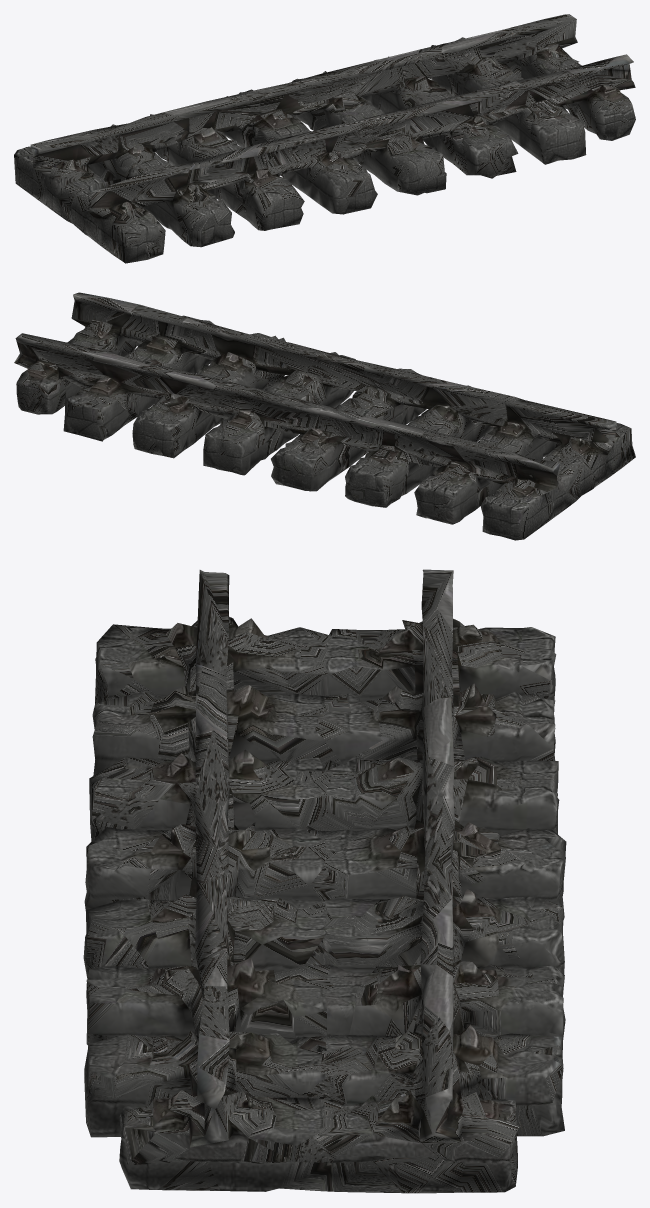
File: railroad_track_04.glb
3 renders of one model, top to bottom at view 1: azimuth 30°, elevation 25°; view 2: azimuth 150°, elevation 25°; view 3: azimuth 270°, elevation 25°, orthographic. The views are drawn at different scales.
Visible parts, largest first — view 1: tripo_node_1288a084-7d53-4255-93f8-f693fbda633b; view 2: tripo_node_1288a084-7d53-4255-93f8-f693fbda633b; view 3: tripo_node_1288a084-7d53-4255-93f8-f693fbda633b.
Boxes of the visible parts, <box> form: tripo_node_1288a084-7d53-4255-93f8-f693fbda633b: <box>14,14,635,263</box>; tripo_node_1288a084-7d53-4255-93f8-f693fbda633b: <box>14,292,635,540</box>; tripo_node_1288a084-7d53-4255-93f8-f693fbda633b: <box>83,569,566,1193</box>.
Bounding box in the file's own units: 0.9834 × 0.103 × 0.3811.
1 material, 1 textured.
